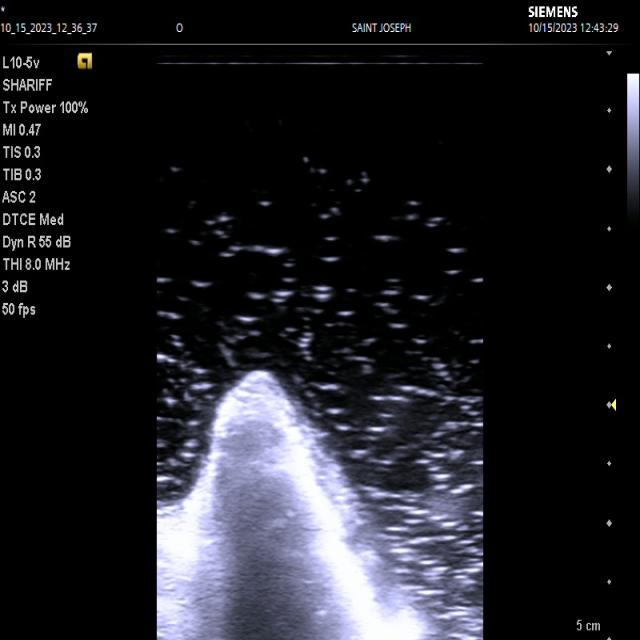tissue: (158, 371, 414, 640)
